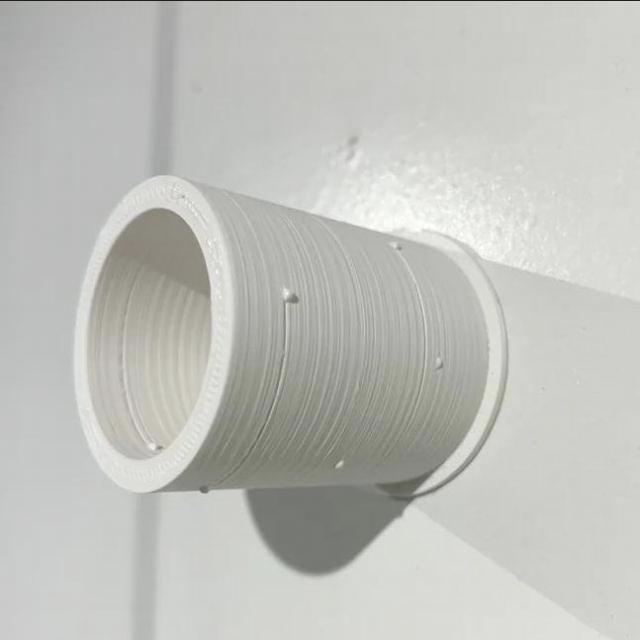zits: (276, 285, 298, 308), (389, 235, 407, 257), (330, 454, 350, 473), (197, 479, 215, 499), (144, 439, 162, 454), (432, 354, 448, 370)
